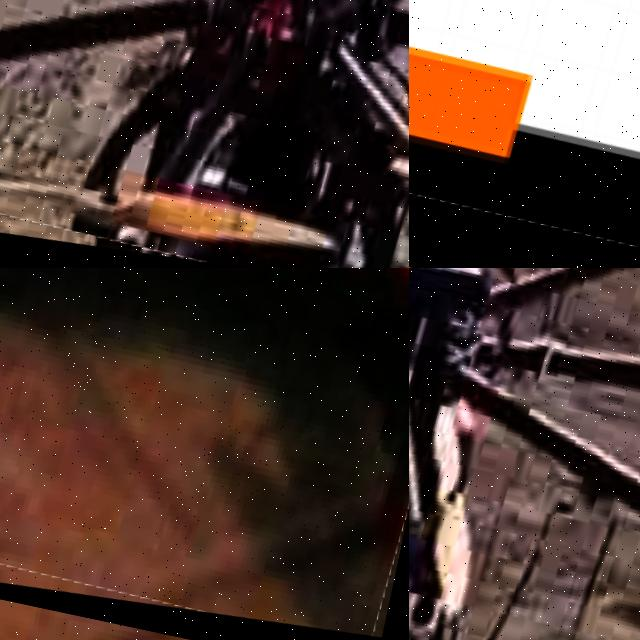0: (0, 0, 409, 268), (409, 268, 640, 640)
drone: (0, 268, 409, 640), (409, 0, 640, 268)
